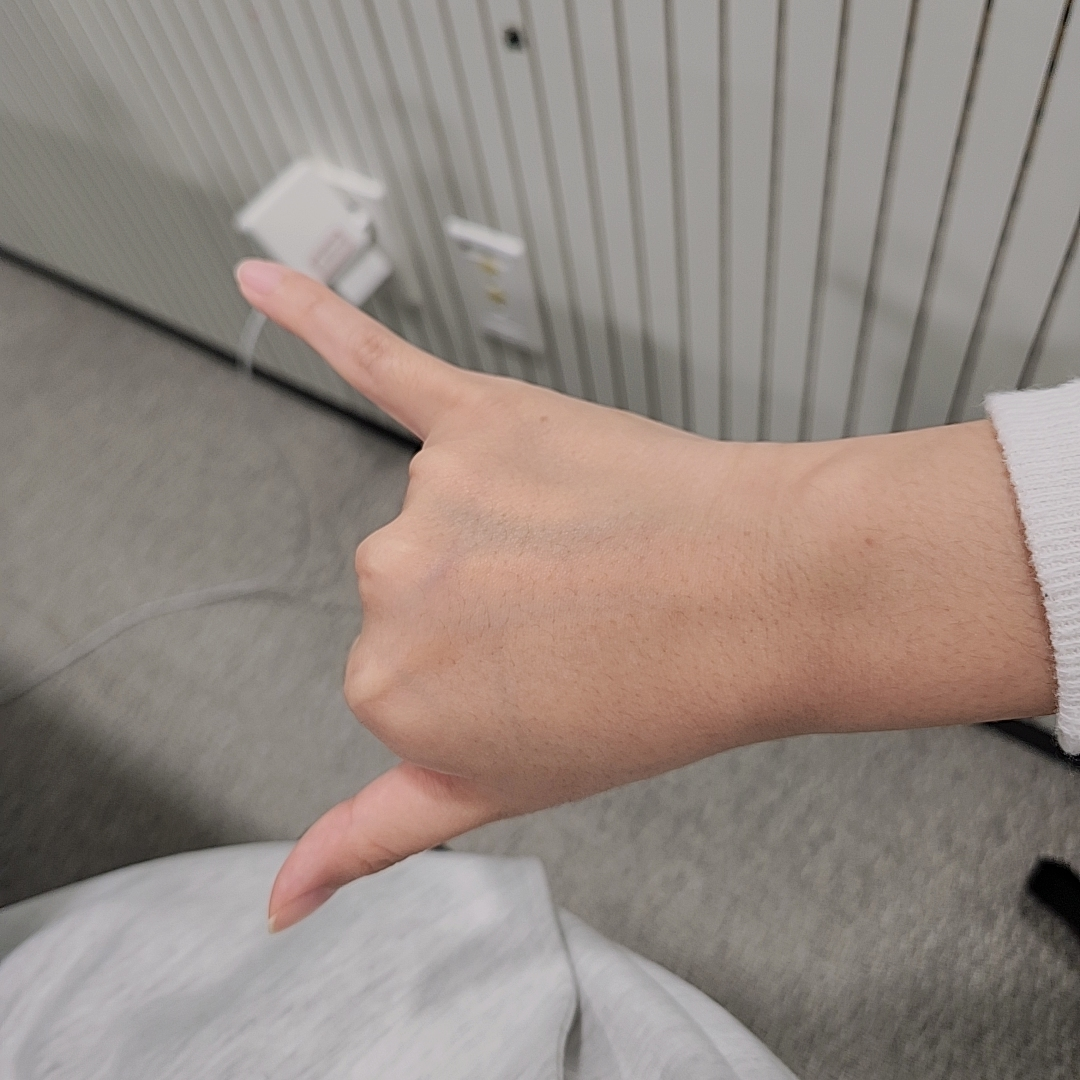call: (236, 256, 741, 936)
